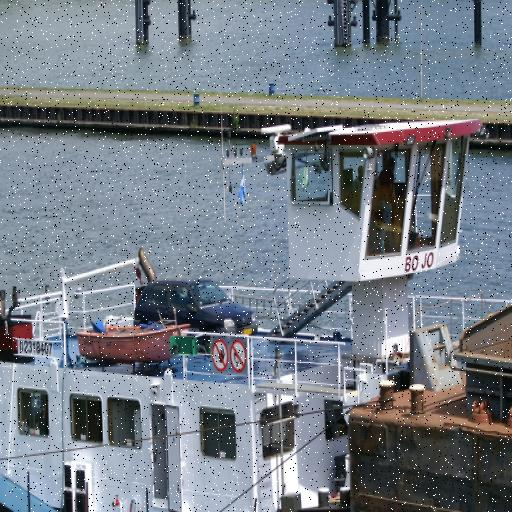tugboat: (1, 107, 512, 512)
